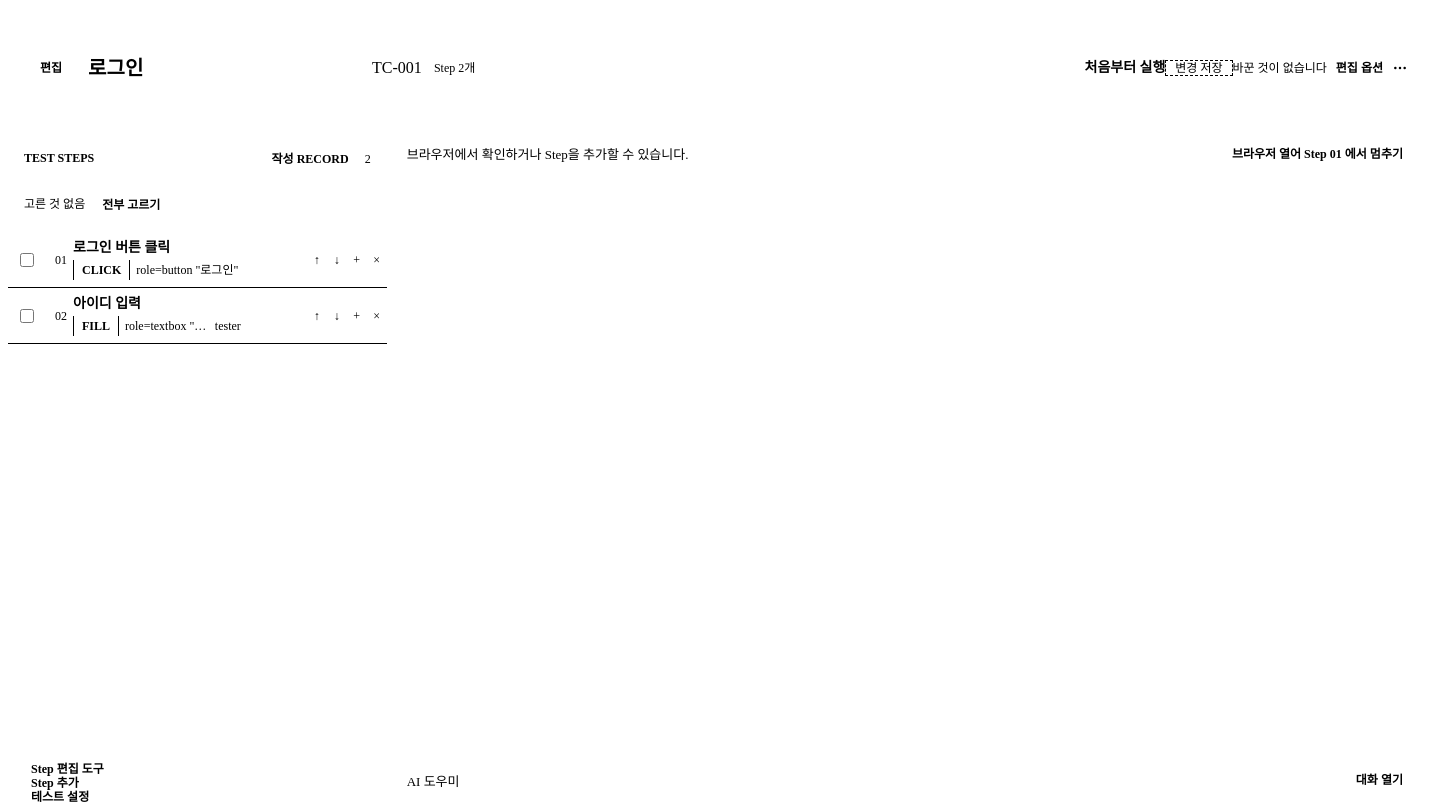
FR-374a·FR-375 — 지시문이 목표 자리와 함께 실려 나간다 › 저장이 실패하면 브라우저를 열지 않고 사유를 남긴다
This screenshot has width=1440, height=810.
Type "!" into the field named "테스트 이름".
click(221, 68); type("!")  # box [82,53,360,83]
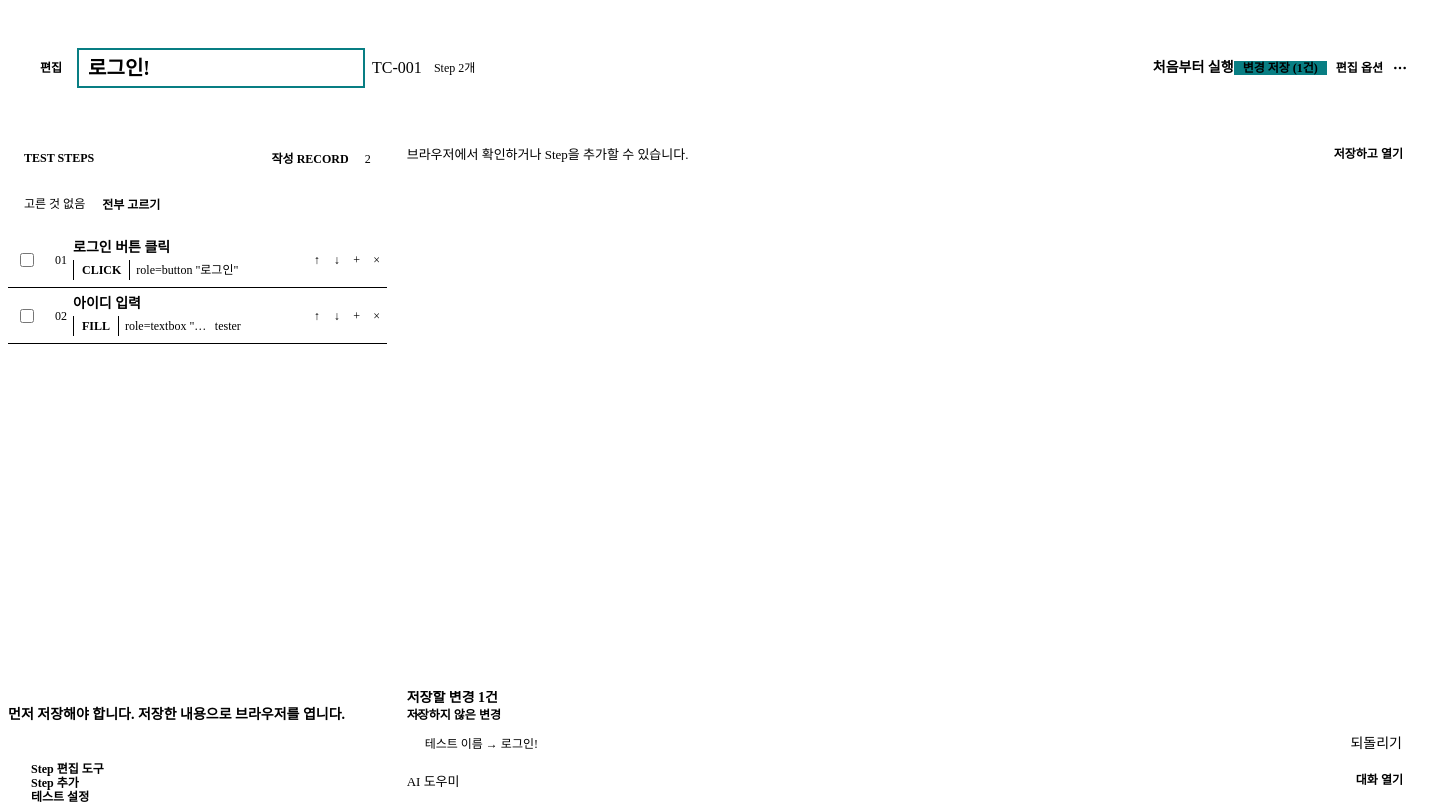
Click the button "Step 추가".
click(55, 783)  # box [22,776,88,790]
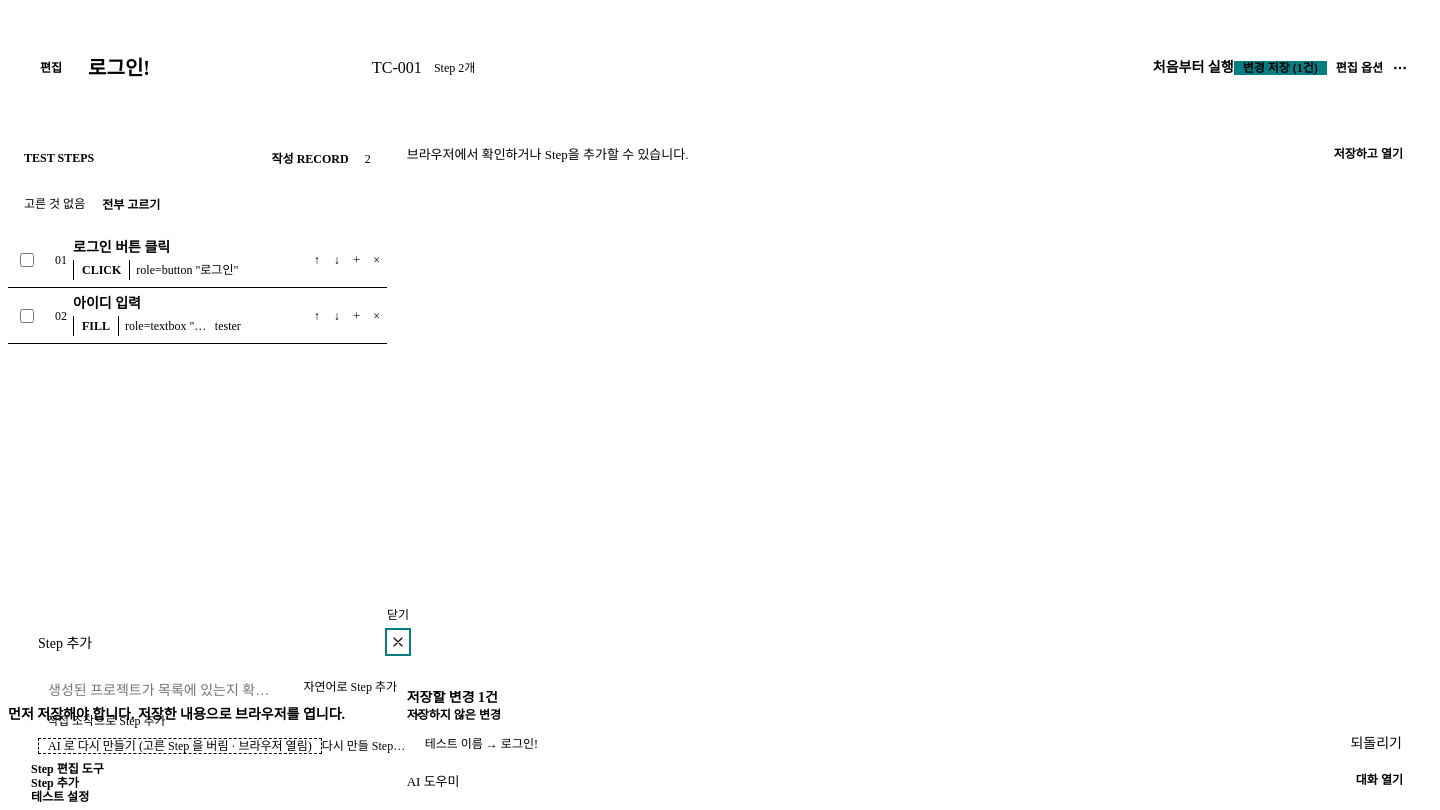
Type "장바구니에 담아" into the field named "자연어로 Step 추가".
click(161, 691); type("장바구니에 담아")  # box [38,680,284,702]
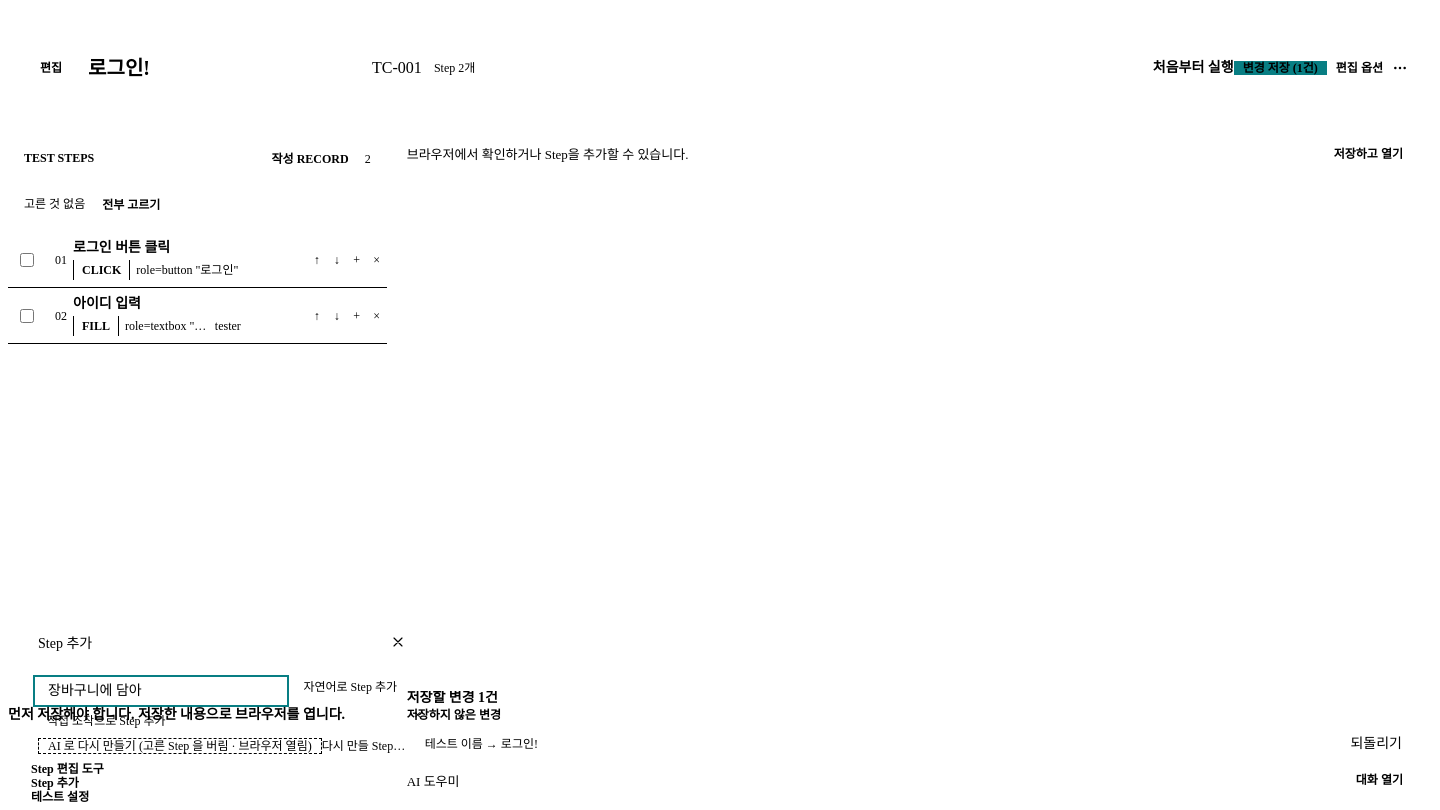
Click the button "자연어로 Step 추가".
click(350, 687)  # box [294,680,406,694]
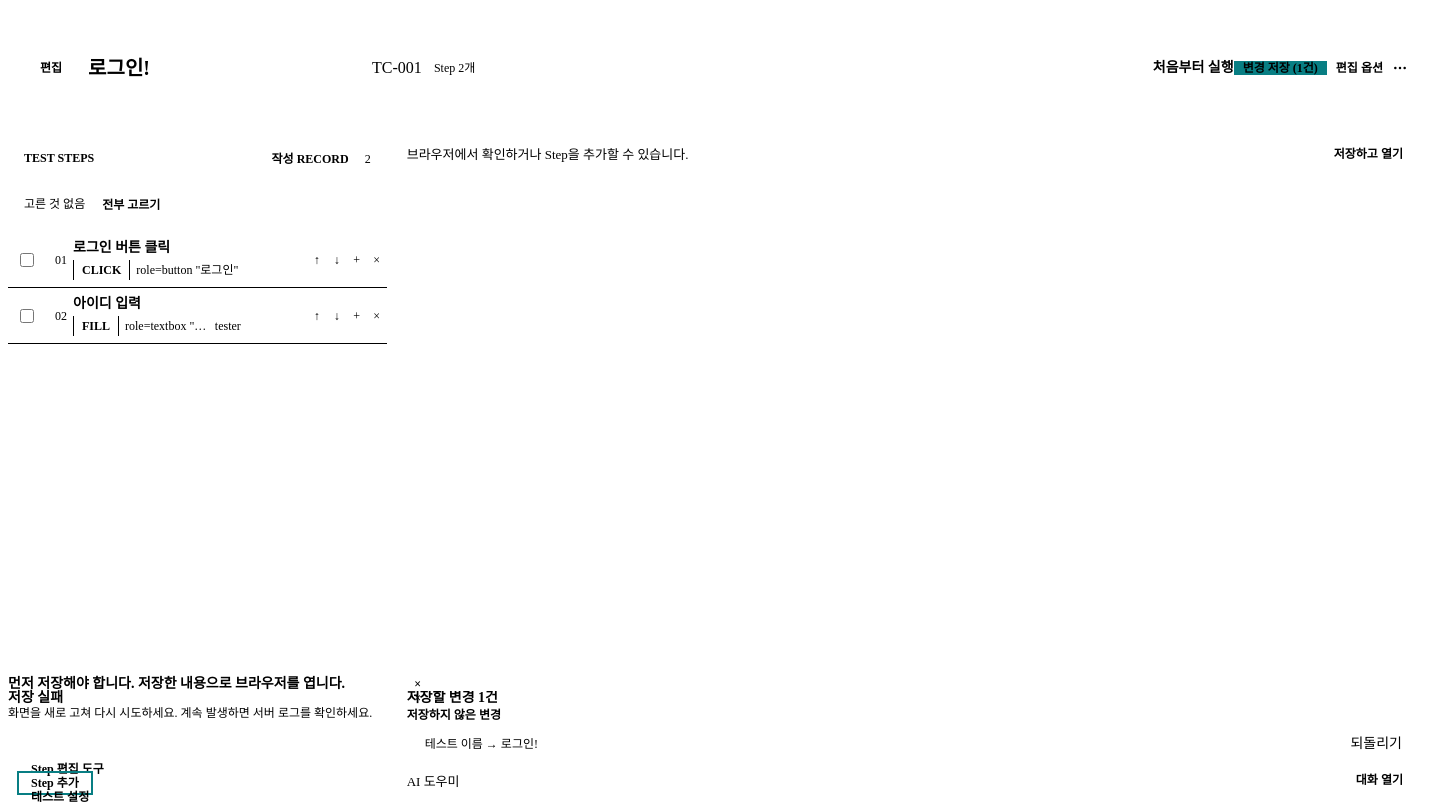
Expected: the text "저장 실패" is shown, [8,690,63,705]
